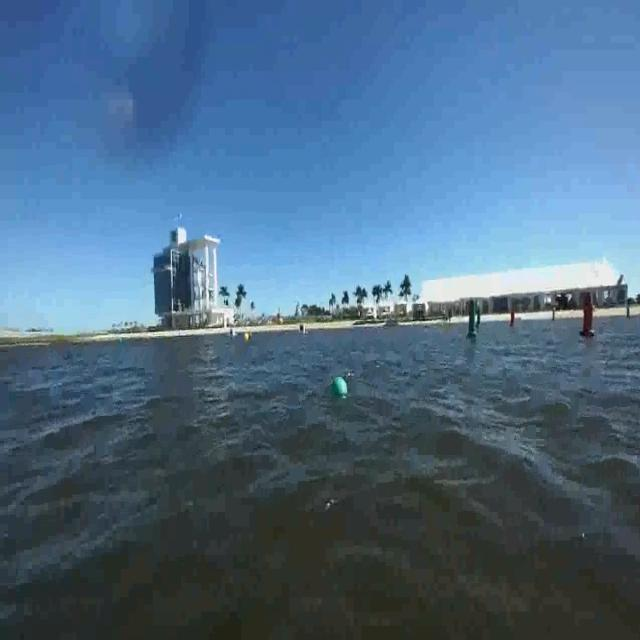green-buoy: (333, 375, 348, 396)
green-column-buoy: (464, 299, 480, 341)
red-column-buoy: (579, 295, 595, 341), (511, 308, 518, 328)
yellow-buoy: (244, 331, 252, 344)
